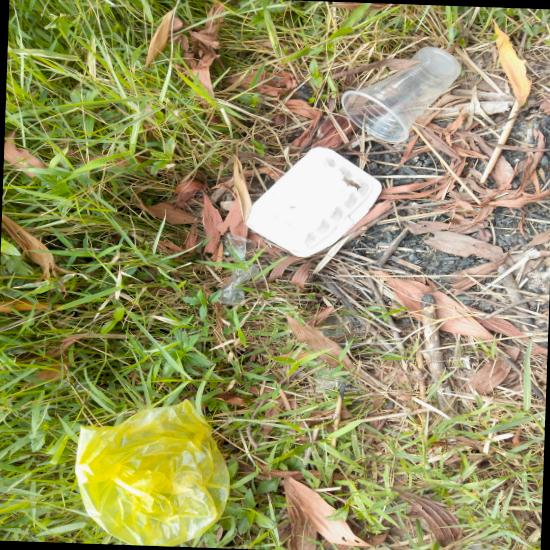Disposable plastic cup: (341, 47, 461, 143)
Meal carton: (245, 147, 382, 257)
Plastic film: (219, 261, 259, 306), (218, 233, 256, 261)
Single-use carrier bag: (75, 399, 230, 547)
